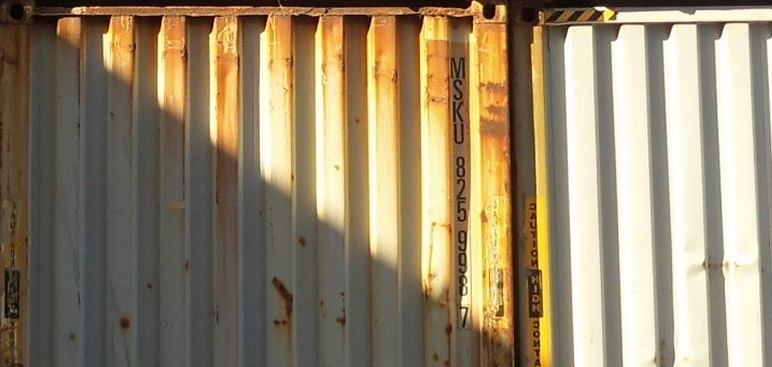container_no_door: (6, 3, 520, 365), (521, 4, 772, 367)
